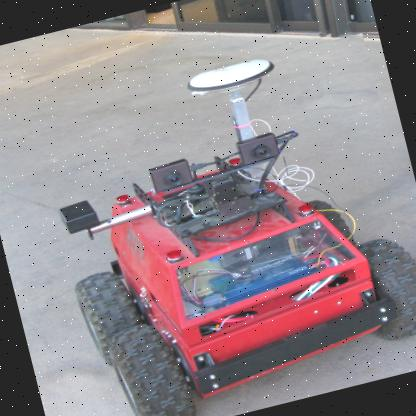Car: (30, 33, 415, 415)
